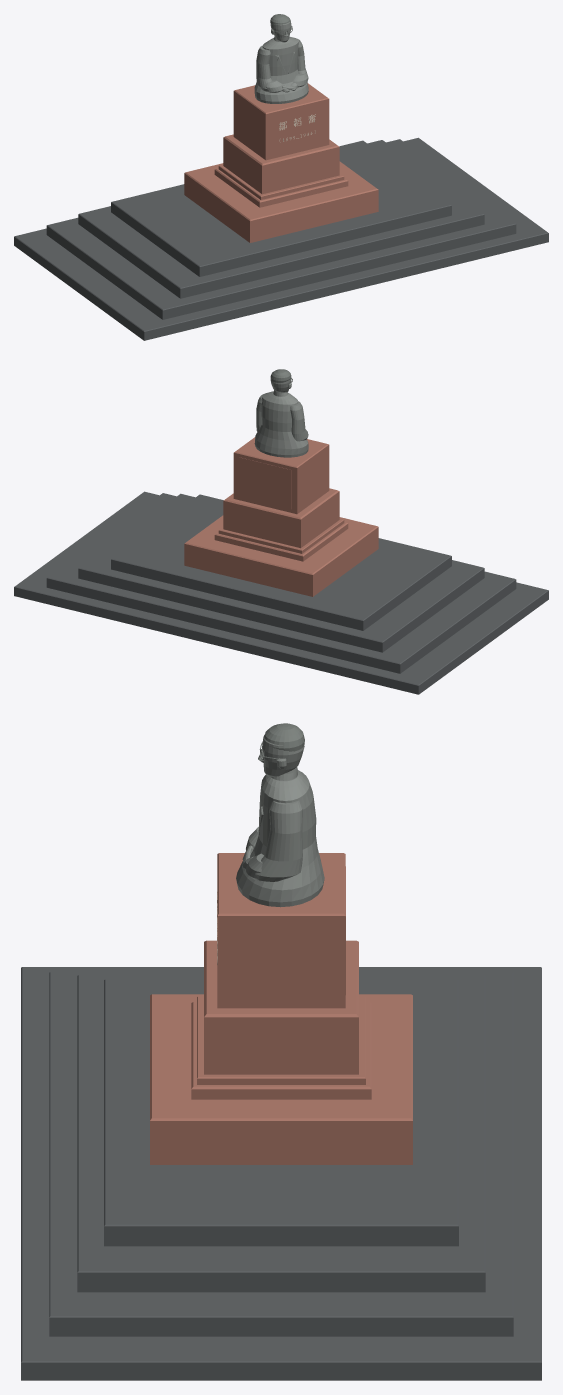
The model's file is statue-full.glb.
3 renders of one model, top to bottom at view 1: azimuth 30°, elevation 25°; view 2: azimuth 150°, elevation 25°; view 3: azimuth 270°, elevation 25°, orthographic. The views are drawn at different scales.
Visible parts, largest first — view 1: statue-full; view 2: statue-full; view 3: statue-full.
Boxes of the visible parts, box(x1,y1,x2,y2) form: statue-full: box(14, 14, 548, 340); statue-full: box(14, 369, 548, 694); statue-full: box(21, 723, 541, 1380).
Size of the model in its own units: 6.64 by 3.57 by 3.7.
